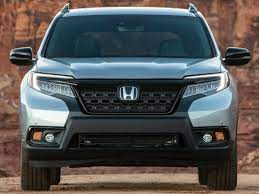Honda: (9, 3, 252, 191)
